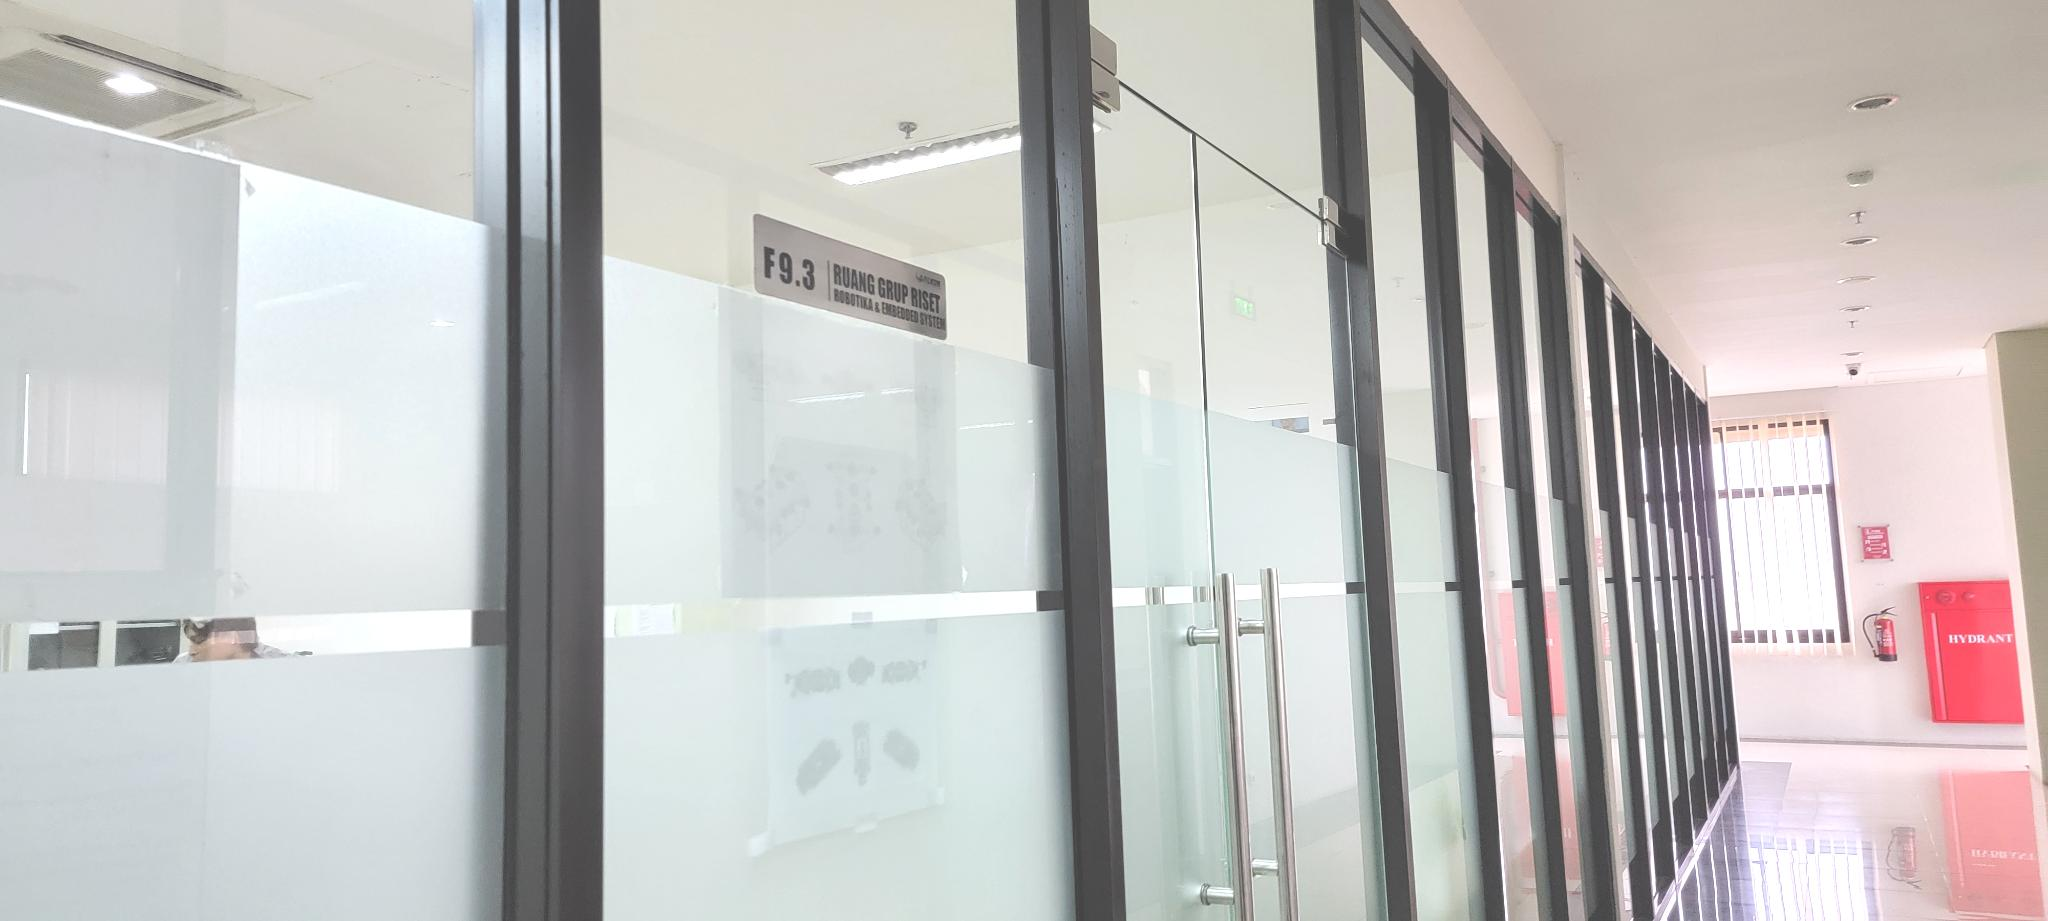plate: (751, 208, 950, 342)
